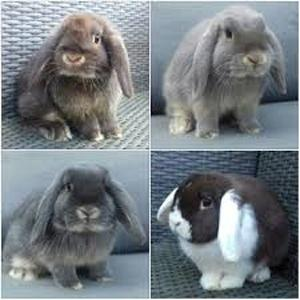rabbit: (4, 165, 146, 288), (163, 6, 286, 136), (158, 172, 287, 289), (19, 12, 132, 140)
